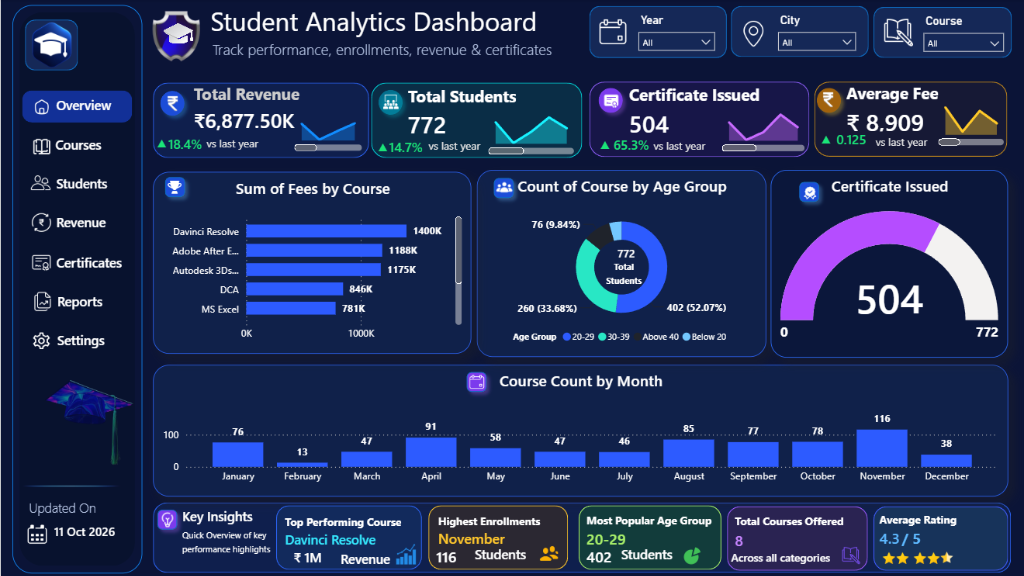

The dashboard page shown, as its layout file describes it:
{"tool":"powerbi","page":{"name":"OverView","canvas":[1280,720],"ordinal":0},"visuals":[{"type":"shape","box":[14.5,7.2,161.7,707],"z":0},{"type":"shape","box":[190,626.2,1067.5,87.5],"z":1000},{"type":"shape","box":[1012.2,102.2,240,93.3],"z":2000},{"type":"shape","box":[461.2,103.8,262.5,93.8],"z":3000},{"type":"shape","box":[190,103.8,268.8,93.8],"z":4000},{"type":"shape","box":[907.9,8.2,171.3,63.3],"z":5000},{"type":"shape","box":[1086.1,9.2,172,63.3],"z":6000},{"type":"clusteredColumnChart","fields":{"Category":["Student Course Details (2).Month"],"Y":["Student Course Details (2).Course Count"]},"box":[190,455,1063.8,163.8],"z":7000},{"type":"shape","box":[732.4,8.1,171,64.6],"z":8000},{"type":"donutChart","fields":{"Y":["CountNonNull(Student Course Details (2).Course)"],"Category":["Student Course Details (2).Age Group"]},"box":[592.5,212.5,360,232.5],"z":9000},{"type":"clusteredBarChart","title":"      Sum of Fees by Course","fields":{"Category":["Student Course Details (2).Course"],"Y":["Personal Details.Total Revenue calc"]},"box":[190,215,396.2,226.2],"z":10000},{"type":"gauge","fields":{"Y":["Personal Details.CountYes"]},"box":[957.5,212.5,295,233.8],"z":11000},{"type":"slicer","fields":{"Values":["Personal Details.City"]},"box":[957.2,11.5,117.5,65],"z":12000},{"type":"slicer","fields":{"Values":["Student Course Details (2).Course"]},"box":[1138.1,13.2,120,62.7],"z":13000},{"type":"slicer","fields":{"Values":["Student Course Details (2).Date of Join.Variation.Date Hierarchy.Year"]},"box":[782.5,12.6,115.5,58],"z":14000},{"type":"cardVisual","fields":{"Data":["Personal Details.AverageRound Fee"]},"box":[1023.3,91.1,216.7,90],"z":15000},{"type":"cardVisual","fields":{"Data":["Sum(Student Course Details (2).Fees)"]},"box":[210.8,88.3,210.5,94.5],"z":16000},{"type":"cardVisual","fields":{"Data":["CountNonNull(Student Course Details (2).Student Name)"]},"box":[477.6,94.7,204.7,90.6],"z":17000},{"type":"textbox","box":[255.8,0,427.7,63.2],"z":18000},{"type":"textbox","box":[258.5,44.4,465.3,49.8],"z":19000},{"type":"cardVisual","fields":{"Data":["Personal Details.Revenue Growth %"]},"box":[176.7,150.8,106.7,55.3],"z":20000},{"type":"textbox","box":[247.5,165.8,97.3,30],"z":21000},{"type":"textbox","box":[190,161.7,25,32.5],"z":22000},{"type":"shape","box":[190,105,48.2,49.1],"z":23000},{"type":"image","box":[181.7,113.3,63.8,31.5],"z":24000},{"type":"areaChart","fields":{"Category":["Student Course Details (2).Date of Join.Variation.Date Hierarchy.Month"],"Y":["Sum(Student Course Details (2).Fees)"]},"box":[361.2,132.5,93.8,61.2],"z":25000},{"type":"shape","box":[460.8,103.3,48.2,49.1],"z":26000},{"type":"textbox","box":[524.2,167.5,97.3,30],"z":27000},{"type":"cardVisual","fields":{"Data":["Personal Details.Student Growth %"]},"box":[440,154.3,127.1,57.1],"z":28000},{"type":"textbox","box":[464.7,166.5,25,32.5],"z":29000},{"type":"shape","box":[732.5,102.5,273.8,93.8],"z":30000},{"type":"cardVisual","fields":{"Data":["Personal Details.CountYes"]},"box":[752.9,92.9,244.1,92.9],"z":31000},{"type":"shape","box":[735,100.8,48.2,49.1],"z":32000},{"type":"cardVisual","fields":{"Data":["Personal Details.Certificate Issued %"]},"box":[732.4,151.2,104.3,57.1],"z":33000},{"type":"textbox","box":[741.2,164.1,25,32.5],"z":34000},{"type":"textbox","box":[802.9,168.2,97.3,30],"z":35000},{"type":"image","box":[745.7,115.7,28.2,20],"z":36000},{"type":"image","box":[469.2,117.5,31.4,20.7],"z":37000},{"type":"shape","box":[1005.6,101,48.2,49.1],"z":38000},{"type":"image","box":[997.3,109.1,63.8,31.5],"z":39000},{"type":"textbox","box":[1015.8,156.7,25,32.5],"z":40000},{"type":"textbox","box":[1079.2,163.3,97.3,30],"z":41000},{"type":"cardVisual","fields":{"Data":["Personal Details.Average Fee Growth %"]},"box":[1005.8,145,104.3,57.1],"z":42000},{"type":"shape","box":[195.5,211.8,42.7,42.7],"z":43000},{"type":"image","box":[206.9,213.1,20,40],"z":44000},{"type":"shape","box":[605,213,42.7,42.7],"z":45000},{"type":"image","box":[616.4,217.9,20,30.7],"z":46000},{"type":"shape","box":[984.4,218.9,42.7,42.7],"z":47000},{"type":"cardVisual","fields":{"Data":["CountNonNull(Student Course Details (2).Student Name)"]},"box":[738.9,278.9,106.7,72.2],"z":48000},{"type":"textbox","box":[740.4,317.7,69,68],"z":49000},{"type":"image","box":[997.8,227.8,18,25.3],"z":50000},{"type":"shape","box":[570.8,455,42.7,42.7],"z":51000},{"type":"image","box":[581.2,455,21.2,42.5],"z":52000},{"type":"shape","box":[186.2,626.2,42.7,42.7],"z":53000},{"type":"image","box":[196.2,630,21.2,36.2],"z":54000},{"type":"textbox","box":[221.2,627.5,97.5,42.5],"z":55000},{"type":"textbox","box":[221.2,651.2,140,68.8],"z":56000},{"type":"shape","box":[342.5,630,181.2,80],"z":57000},{"type":"cardVisual","fields":{"Data":["Personal Details.Top Course"]},"box":[325,620,242.5,83.8],"z":58000},{"type":"cardVisual","fields":{"Data":["Personal Details.Top Course Revenue"]},"box":[335,666.2,130,53.8],"z":59000},{"type":"textbox","box":[412.5,677.5,98.8,36.2],"z":60000},{"type":"shape","box":[532.5,630,173.8,80],"z":61000},{"type":"textbox","box":[580,675,98.8,36.2],"z":62000},{"type":"cardVisual","fields":{"Data":["Personal Details.Highest Enrollment Count"]},"box":[512.5,666.2,92.5,53.8],"z":63000},{"type":"cardVisual","fields":{"Data":["Personal Details.Highest Enrollment Month"]},"box":[515,618.8,238.8,83.8],"z":64000},{"type":"shape","box":[718.8,630,177.5,80],"z":65000},{"type":"cardVisual","fields":{"Data":["Personal Details.Most Popular Age Group"]},"box":[700,626.2,216.2,70],"z":66000},{"type":"cardVisual","fields":{"Data":["Personal Details.Popular Age Count"]},"box":[700,666.2,108.8,53.8],"z":67000},{"type":"textbox","box":[762.5,675,98.8,36.2],"z":68000},{"type":"shape","box":[903.8,631.2,175,80],"z":69000},{"type":"cardVisual","fields":{"Data":["Personal Details.Total Courses"]},"box":[883.8,620,197.5,85],"z":70000},{"type":"textbox","box":[900,680,181.2,36.2],"z":71000},{"type":"shape","box":[1086.2,631.2,167.5,80],"z":72000},{"type":"cardVisual","fields":{"Data":["Personal Details.Average Rating"]},"box":[1063.8,620,216.2,81.2],"z":73000},{"type":"textbox","box":[1116.2,652.5,42.5,37.5],"z":74000},{"type":"image","box":[1092.5,686.2,23.8,17.5],"z":75000},{"type":"image","box":[1110,686.4,23.8,17.5],"z":76000},{"type":"image","box":[1131.2,686.2,23.8,17.5],"z":77000},{"type":"image","box":[1148.2,686.4,23.8,17.5],"z":78000},{"type":"image","box":[1168.2,685.5,17.3,18.2],"z":79000},{"type":"image","box":[1045,672.5,25,38.8],"z":80000},{"type":"image","box":[837.5,680,46.2,23.8],"z":81000},{"type":"image","box":[670,673.8,25,33.8],"z":82000},{"type":"image","box":[490,676.2,28.8,26.2],"z":83000},{"type":"image","box":[741.2,20,41.2,40],"z":84000},{"type":"image","box":[1090,20,52.5,40],"z":85000},{"type":"image","box":[916.2,25,41.2,35],"z":86000},{"type":"areaChart","fields":{"Category":["Student Course Details (2).Month"],"Y":["Personal Details.Total Students"]},"box":[602.5,122.5,116.2,75],"z":87000},{"type":"areaChart","fields":{"Category":["Student Course Details (2).Month"],"Y":["Personal Details.Certificates Issued"]},"box":[892.9,122.9,112.5,71.2],"z":88000},{"type":"areaChart","fields":{"Category":["Student Course Details (2).Month"],"Y":["Personal Details.Average Fee"]},"box":[1161.8,120.6,91.2,66.2],"z":89000},{"type":"image","box":[187.1,0,61.9,91.5],"z":90000},{"type":"image","box":[195.2,13.5,51.2,57.9],"z":91000},{"type":"shape","box":[29.6,25.6,66,63.3],"z":92000},{"type":"image","box":[31.5,25.4,64.6,63.8],"z":93000},{"type":"image","box":[38.5,35.4,47.7,40.8],"z":94000},{"type":"image","box":[30,651,30,28.6],"z":95000},{"type":"cardVisual","fields":{"Data":["Personal Details.Updated On"]},"box":[37,629,170,65.7],"z":96000},{"type":"textbox","box":[30,616,120,50],"z":97000},{"type":"actionButton","box":[26,114,137,40],"z":98000},{"type":"textbox","box":[64,116,82,33],"z":99000},{"type":"image","box":[39,123,25,22],"z":100000},{"type":"textbox","box":[63,165,82,33],"z":101000},{"type":"textbox","box":[64,213,89,33],"z":102000},{"type":"textbox","box":[64.3,261.4,82,33],"z":103000},{"type":"image","box":[37.1,171.4,27.1,24.3],"z":104000},{"type":"image","box":[38,216,25,25],"z":105000},{"type":"image","box":[38,262,26,32],"z":106000},{"type":"textbox","box":[64,311,106,33],"z":107000},{"type":"image","box":[38,311,26,32],"z":108000},{"type":"image","box":[39,360,26,32],"z":109000},{"type":"image","box":[38,409,26,32],"z":110000},{"type":"textbox","box":[65,359,80,33],"z":111000},{"type":"textbox","box":[65,408,106,33],"z":112000},{"type":"image","box":[0,426,203,194],"z":113000},{"type":"image","box":[16.9,594.8,146,25.3],"z":114000}]}

Visuals, with their boxes in screenshot pixels (x1, y1, x2, y2), scaled from the page's 1280x720 canvas onto the 1024x576 screenshot:
shape: rect(12, 6, 141, 571)
shape: rect(152, 501, 1006, 571)
shape: rect(810, 82, 1002, 156)
shape: rect(369, 83, 579, 158)
shape: rect(152, 83, 367, 158)
shape: rect(726, 7, 863, 57)
shape: rect(869, 7, 1006, 58)
clusteredColumnChart - Student Course Details (2).Month x Student Course Details (2).Course Count: rect(152, 364, 1003, 495)
shape: rect(586, 6, 723, 58)
donutChart - CountNonNull(Student Course Details (2).Course) x Student Course Details (2).Age Group: rect(474, 170, 762, 356)
"      Sum of Fees by Course" clusteredBarChart: rect(152, 172, 469, 353)
gauge - Personal Details.CountYes: rect(766, 170, 1002, 357)
slicer - Personal Details.City: rect(766, 9, 860, 61)
slicer - Student Course Details (2).Course: rect(910, 11, 1006, 61)
slicer - Student Course Details (2).Date of Join.Variation.Date Hierarchy.Year: rect(626, 10, 718, 56)
cardVisual - Personal Details.AverageRound Fee: rect(819, 73, 992, 145)
cardVisual - Sum(Student Course Details (2).Fees): rect(169, 71, 337, 146)
cardVisual - CountNonNull(Student Course Details (2).Student Name): rect(382, 76, 546, 148)
textbox: rect(205, 0, 547, 51)
textbox: rect(207, 36, 579, 75)
cardVisual - Personal Details.Revenue Growth %: rect(141, 121, 227, 165)
textbox: rect(198, 133, 276, 157)
textbox: rect(152, 129, 172, 155)
shape: rect(152, 84, 191, 123)
image: rect(145, 91, 196, 116)
areaChart - Student Course Details (2).Date of Join.Variation.Date Hierarchy.Month x Sum(Student Course Details (2).Fees): rect(289, 106, 364, 155)
shape: rect(369, 83, 407, 122)
textbox: rect(419, 134, 497, 158)
cardVisual - Personal Details.Student Growth %: rect(352, 123, 454, 169)
textbox: rect(372, 133, 392, 159)
shape: rect(586, 82, 805, 157)
cardVisual - Personal Details.CountYes: rect(602, 74, 798, 149)
shape: rect(588, 81, 627, 120)
cardVisual - Personal Details.Certificate Issued %: rect(586, 121, 669, 167)
textbox: rect(593, 131, 613, 157)
textbox: rect(642, 135, 720, 159)
image: rect(597, 93, 619, 109)
image: rect(375, 94, 400, 111)
shape: rect(804, 81, 843, 120)
image: rect(798, 87, 849, 112)
textbox: rect(813, 125, 833, 151)
textbox: rect(863, 131, 941, 155)
cardVisual - Personal Details.Average Fee Growth %: rect(805, 116, 888, 162)
shape: rect(156, 169, 191, 204)
image: rect(166, 170, 182, 202)
shape: rect(484, 170, 518, 205)
image: rect(493, 174, 509, 199)
shape: rect(788, 175, 822, 209)
cardVisual - CountNonNull(Student Course Details (2).Student Name): rect(591, 223, 676, 281)
textbox: rect(592, 254, 648, 309)
image: rect(798, 182, 813, 202)
shape: rect(457, 364, 491, 398)
image: rect(465, 364, 482, 398)
shape: rect(149, 501, 183, 535)
image: rect(157, 504, 174, 533)
textbox: rect(177, 502, 255, 536)
textbox: rect(177, 521, 289, 575)
shape: rect(274, 504, 419, 568)
cardVisual - Personal Details.Top Course: rect(260, 496, 454, 563)
cardVisual - Personal Details.Top Course Revenue: rect(268, 533, 372, 575)
textbox: rect(330, 542, 409, 571)
shape: rect(426, 504, 565, 568)
textbox: rect(464, 540, 543, 569)
cardVisual - Personal Details.Highest Enrollment Count: rect(410, 533, 484, 575)
cardVisual - Personal Details.Highest Enrollment Month: rect(412, 495, 603, 562)
shape: rect(575, 504, 717, 568)
cardVisual - Personal Details.Most Popular Age Group: rect(560, 501, 733, 557)
cardVisual - Personal Details.Popular Age Count: rect(560, 533, 647, 575)
textbox: rect(610, 540, 689, 569)
shape: rect(723, 505, 863, 569)
cardVisual - Personal Details.Total Courses: rect(707, 496, 865, 564)
textbox: rect(720, 544, 865, 573)
shape: rect(869, 505, 1003, 569)
cardVisual - Personal Details.Average Rating: rect(851, 496, 1023, 561)
textbox: rect(893, 522, 927, 552)
image: rect(874, 549, 893, 563)
image: rect(888, 549, 907, 563)
image: rect(905, 549, 924, 563)
image: rect(919, 549, 938, 563)
image: rect(935, 548, 948, 563)
image: rect(836, 538, 856, 569)
image: rect(670, 544, 707, 563)
image: rect(536, 539, 556, 566)
image: rect(392, 541, 415, 562)
image: rect(593, 16, 626, 48)
image: rect(872, 16, 914, 48)
image: rect(733, 20, 766, 48)
areaChart - Student Course Details (2).Month x Personal Details.Total Students: rect(482, 98, 575, 158)
areaChart - Student Course Details (2).Month x Personal Details.Certificates Issued: rect(714, 98, 804, 155)
areaChart - Student Course Details (2).Month x Personal Details.Average Fee: rect(929, 96, 1002, 149)
image: rect(150, 0, 199, 73)
image: rect(156, 11, 197, 57)
shape: rect(24, 20, 76, 71)
image: rect(25, 20, 77, 71)
image: rect(31, 28, 69, 61)
image: rect(24, 521, 48, 544)
cardVisual - Personal Details.Updated On: rect(30, 503, 166, 556)
textbox: rect(24, 493, 120, 533)
actionButton: rect(21, 91, 130, 123)
textbox: rect(51, 93, 117, 119)
image: rect(31, 98, 51, 116)
textbox: rect(50, 132, 116, 158)
textbox: rect(51, 170, 122, 197)
textbox: rect(51, 209, 117, 236)
image: rect(30, 137, 51, 157)
image: rect(30, 173, 50, 193)
image: rect(30, 210, 51, 235)
textbox: rect(51, 249, 136, 275)
image: rect(30, 249, 51, 274)
image: rect(31, 288, 52, 314)
image: rect(30, 327, 51, 353)
textbox: rect(52, 287, 116, 314)
textbox: rect(52, 326, 137, 353)
image: rect(0, 341, 162, 496)
image: rect(14, 476, 130, 496)
